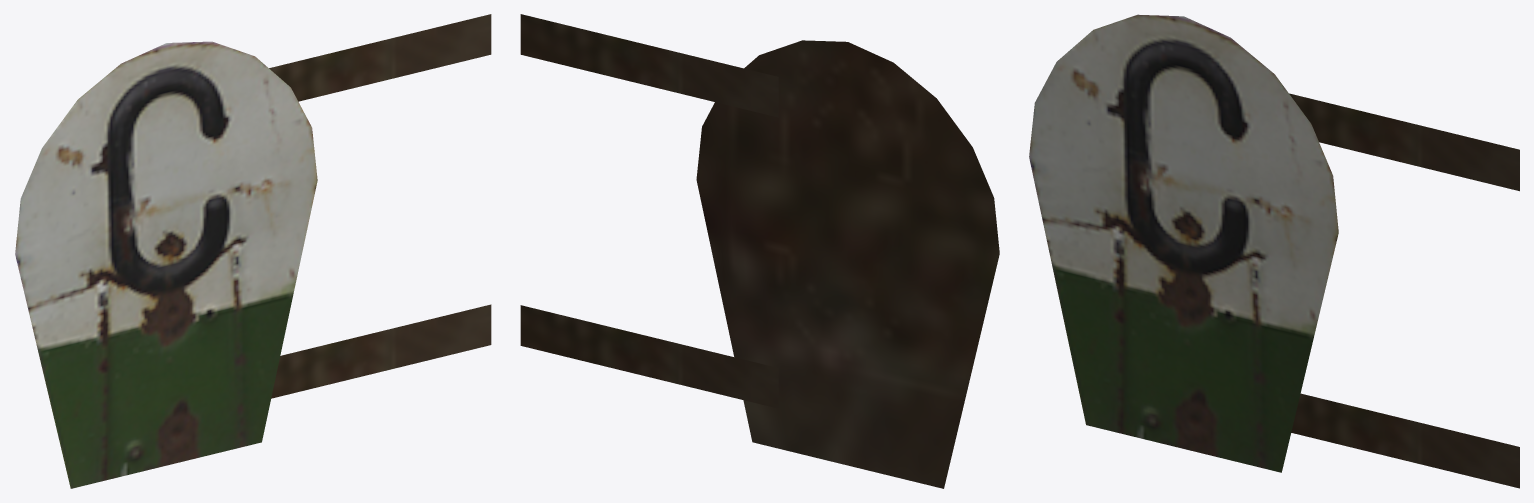
Rendered from Znak_S_.gltf.
The picture shows the model from 3 angles, left to right: view 1: azimuth 30°, elevation 25°; view 2: azimuth 150°, elevation 25°; view 3: azimuth 330°, elevation 25°; orthographic projection. The views are drawn at different scales.
Bounding box in the file's own units: 0.5576 × 0.4712 × 0.00321.
Materials: 1 (1 with a texture image).
